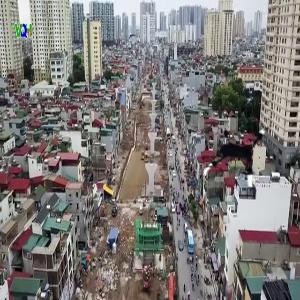drone: (199, 121, 278, 200)
